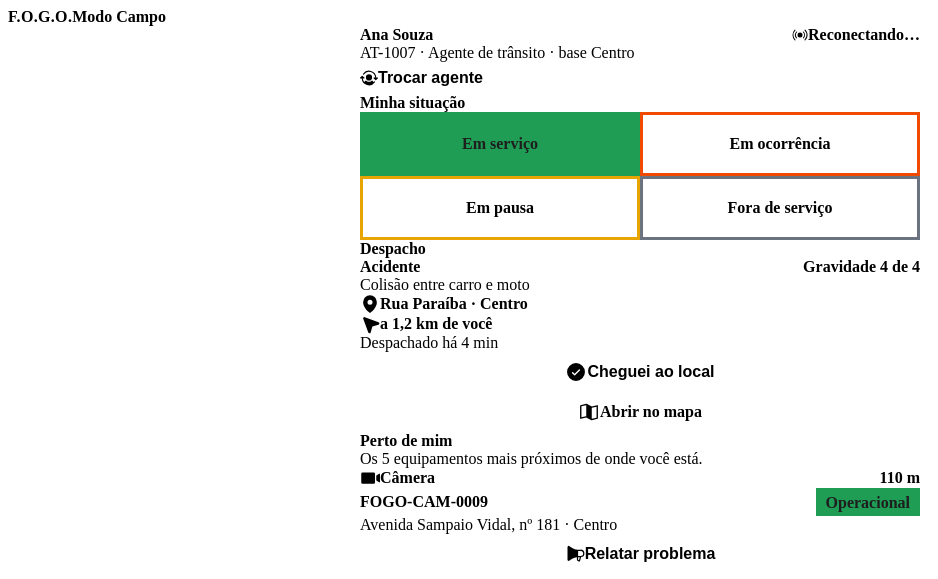
Test: Modo Campo › mostra o despacho com endereço e distância; "Cheguei" e depois "Concluir"
Expected: the text "Acidente" is shown, [360,258,420,276]
Expected: the text "Rua Paraíba · Centro" is shown, [380,295,528,313]
What coordinates should you click on to do the following:
click the button "Cheguei ao local"
I would click on:
 (640, 372)
Its box is [360,352,920,392].
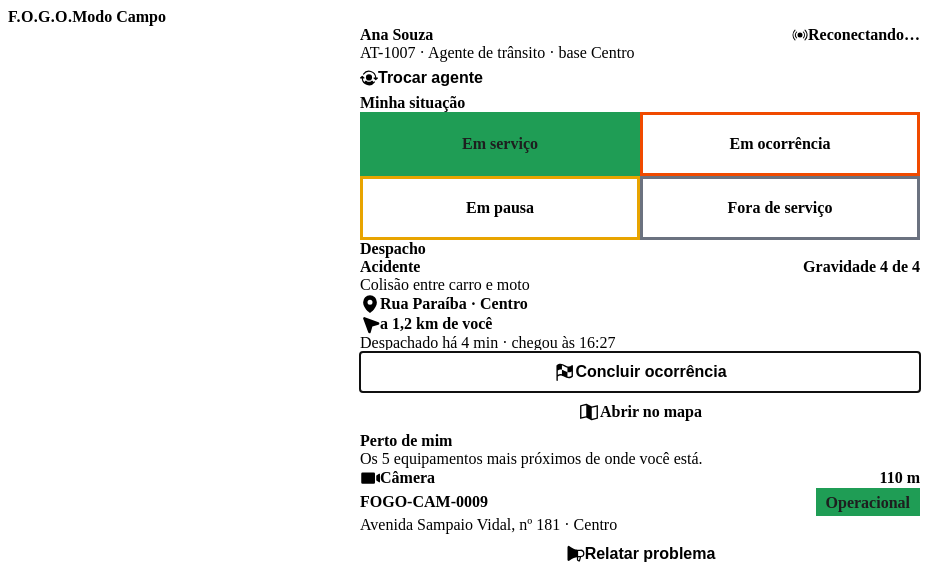
What coordinates should you click on to do the following:
click the button "Concluir ocorrência"
I would click on:
 (640, 372)
Its box is [360,352,920,392].
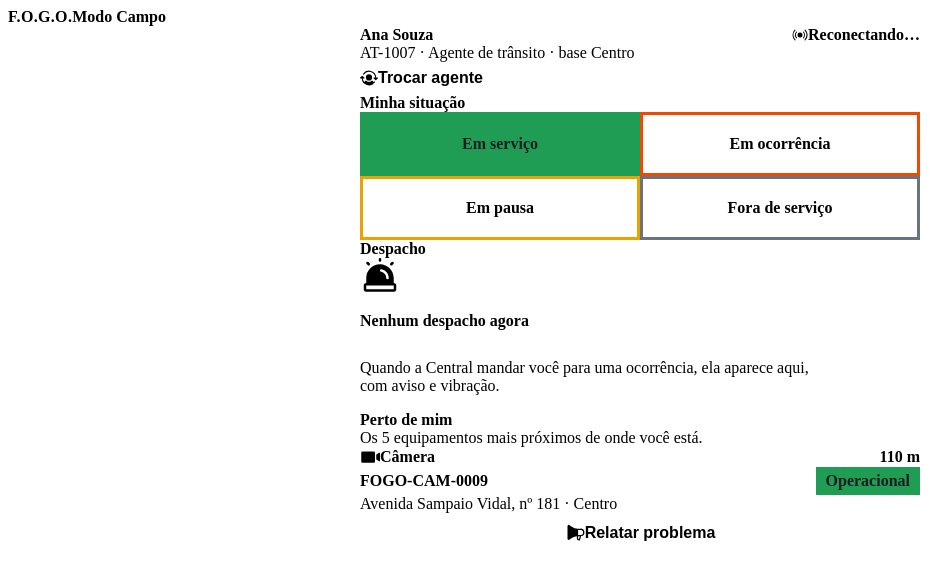
Now the heading "Nenhum despacho agora" is shown, box [360,312,529,330]
